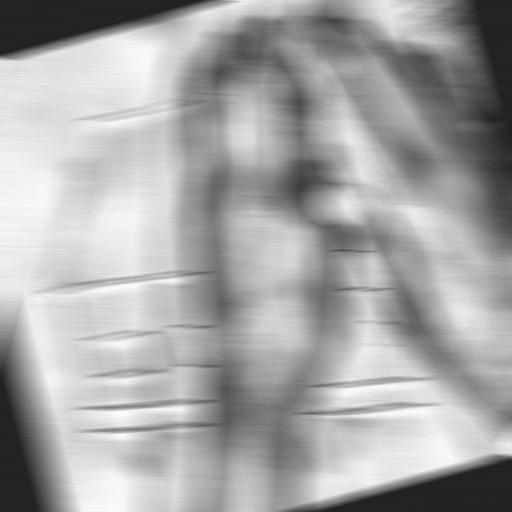house: (0, 0, 467, 511)
